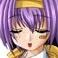NoHuman: (0, 0, 58, 56)
